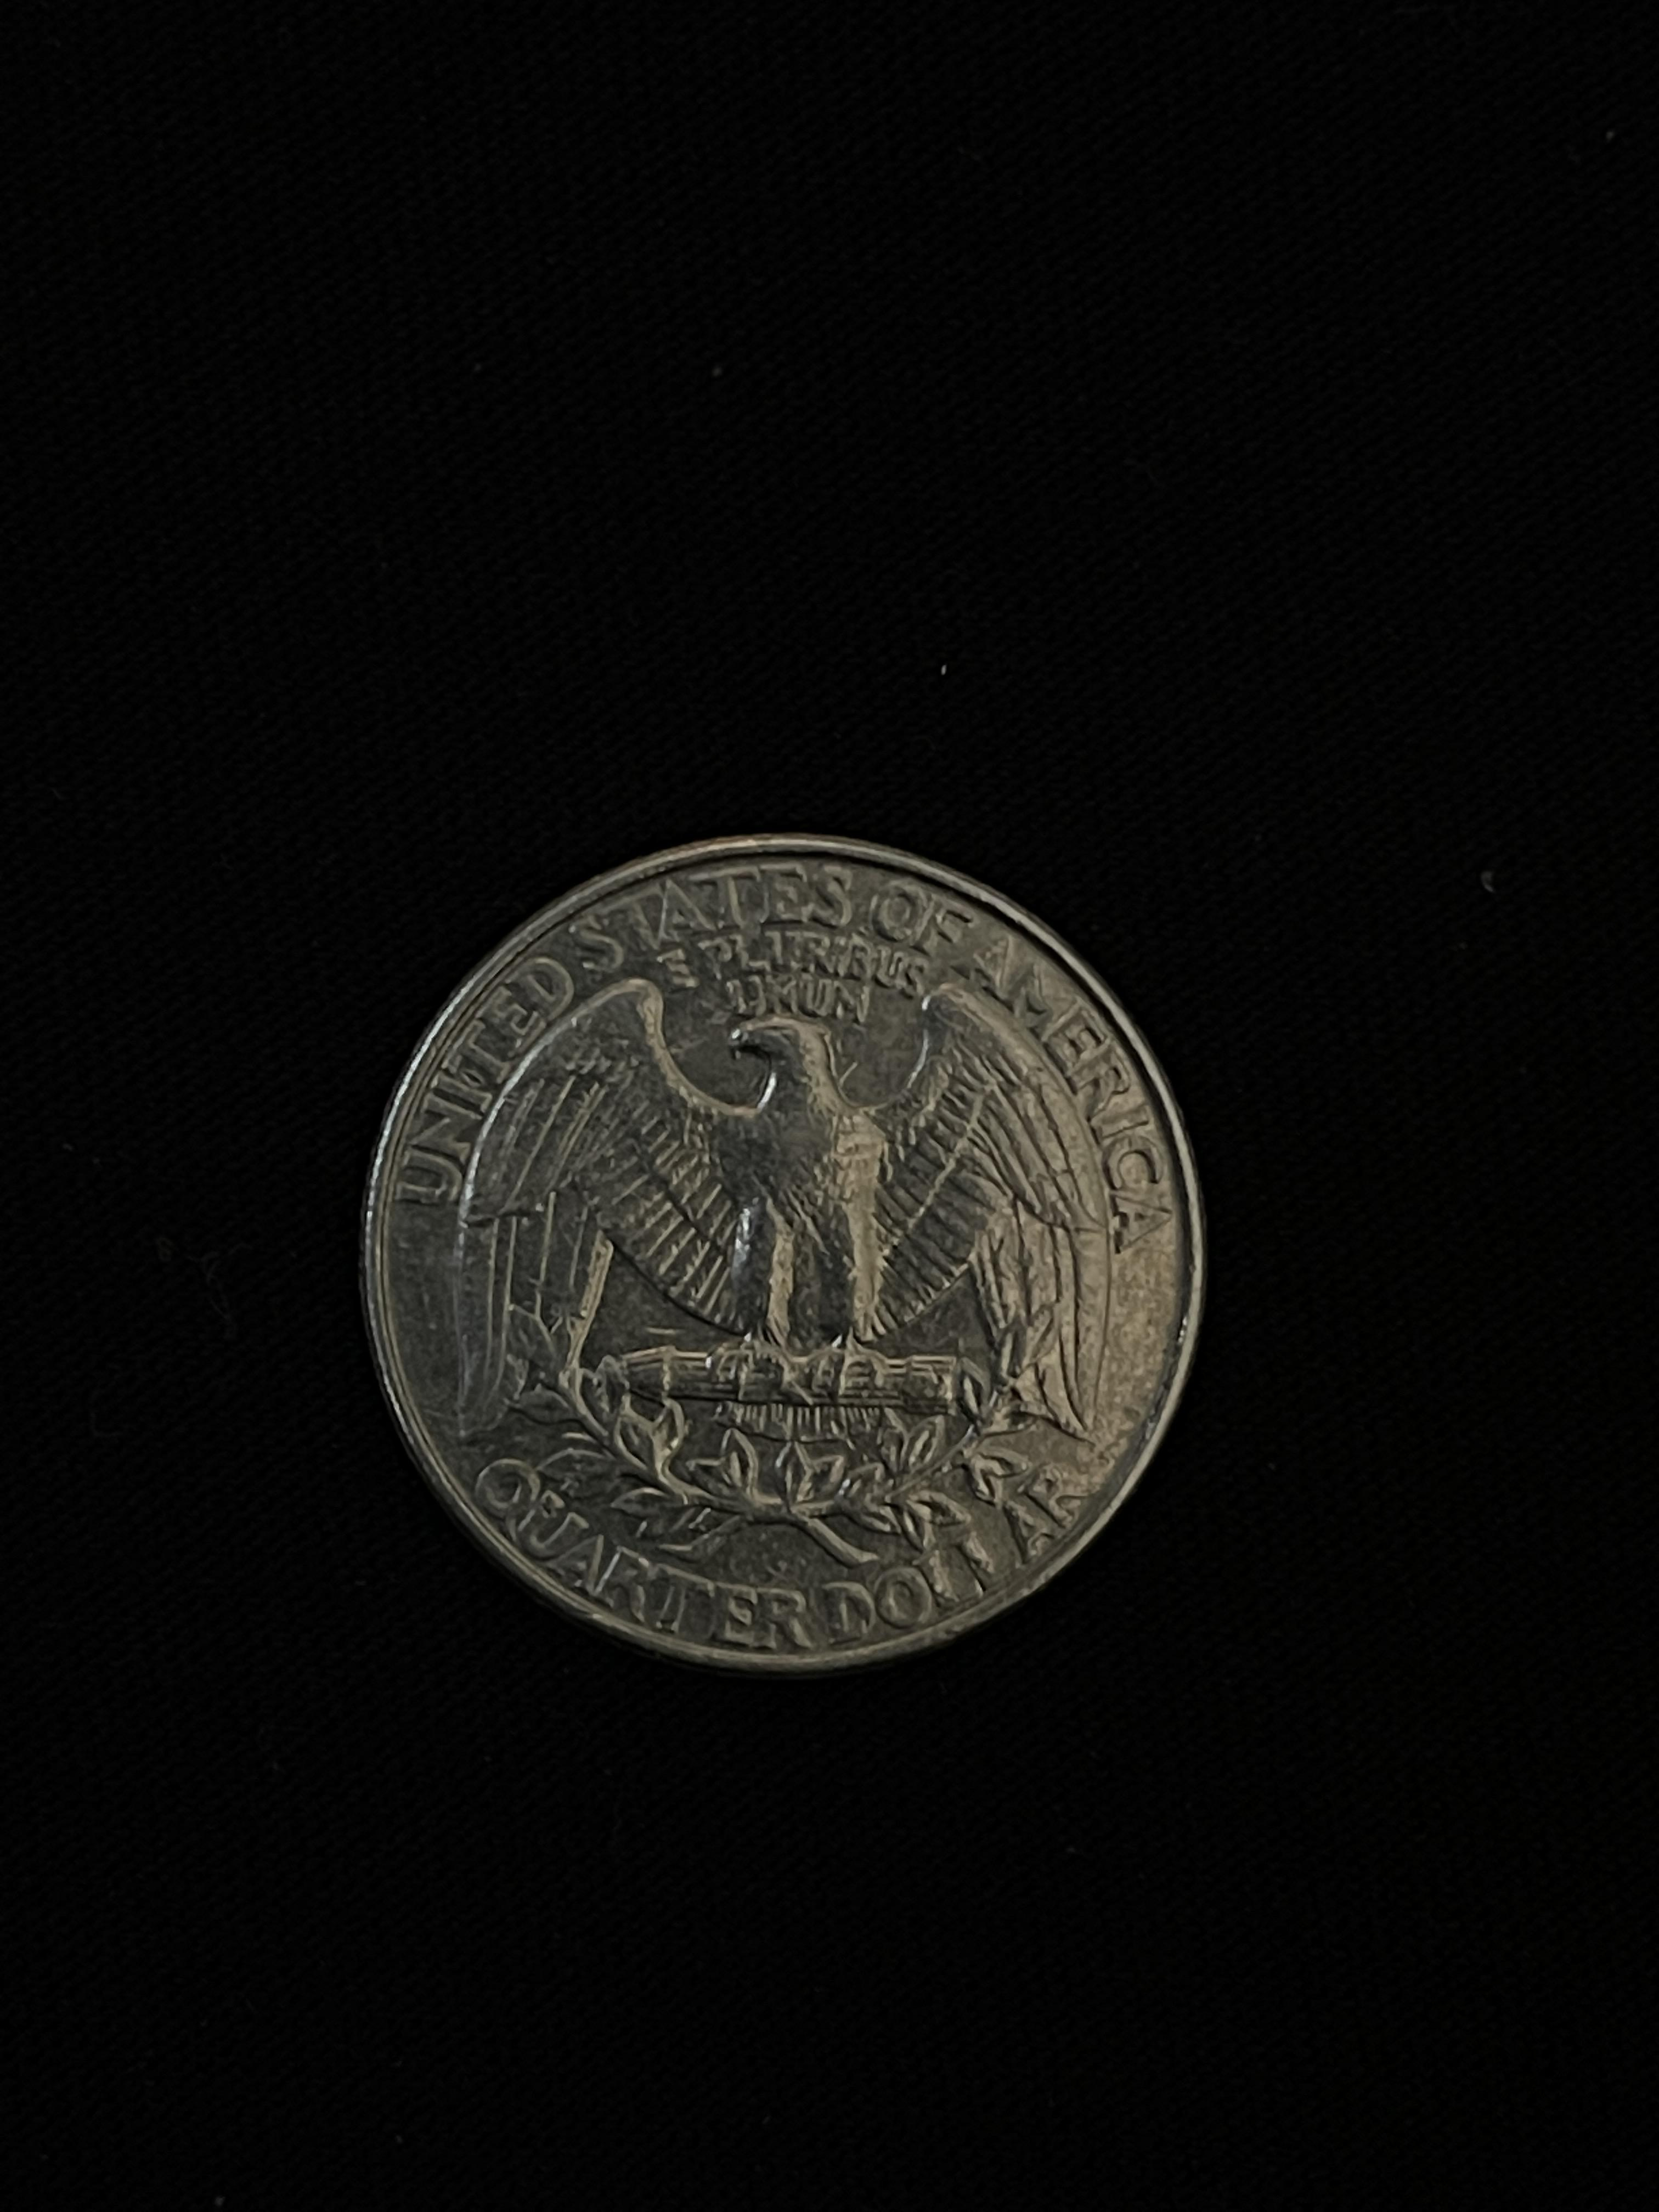Quarter: (357, 827, 1216, 1677)
